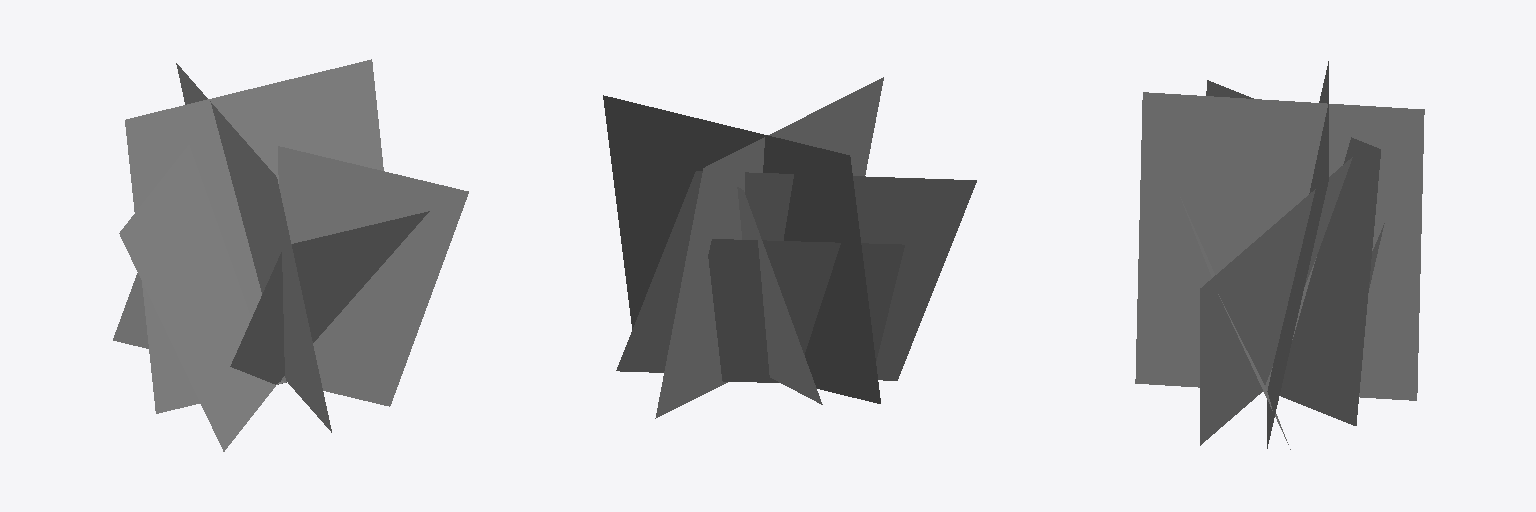
The model's file is grass.obj.
The picture shows the model from 3 angles: view 1: azimuth 30°, elevation 25°; view 2: azimuth 150°, elevation 25°; view 3: azimuth 270°, elevation 25°; orthographic projection.
Visible parts, largest first — view 1: Grass_Mesh_Asset_Mesh; view 2: Grass_Mesh_Asset_Mesh; view 3: Grass_Mesh_Asset_Mesh.
Boxes of the visible parts, x1,y1,x2,y2 form: Grass_Mesh_Asset_Mesh: [113, 59, 468, 451]; Grass_Mesh_Asset_Mesh: [603, 77, 976, 418]; Grass_Mesh_Asset_Mesh: [1135, 61, 1424, 449].
Bounding box in the file's own units: 3.06 × 2.43 × 2.21.